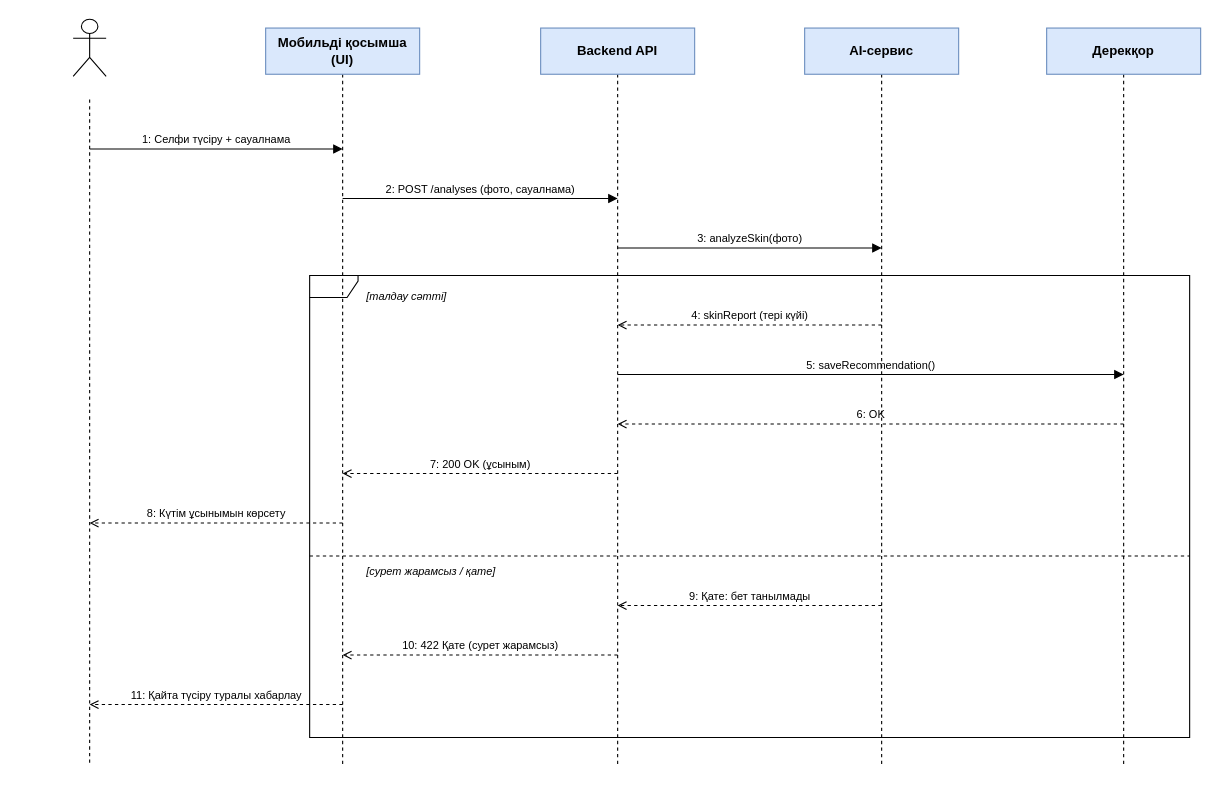
The diagram is 1220 pixels wide and 785 high, and some of its shapes have lost their labels. The shapes that lost their labels are listed below. From the top down, each one's box as (x1, y1, x2, y2) in pixels, then its label:
(72, 18, 106, 76): Пайдаланушы (Actor)
(309, 274, 1190, 738): alt
